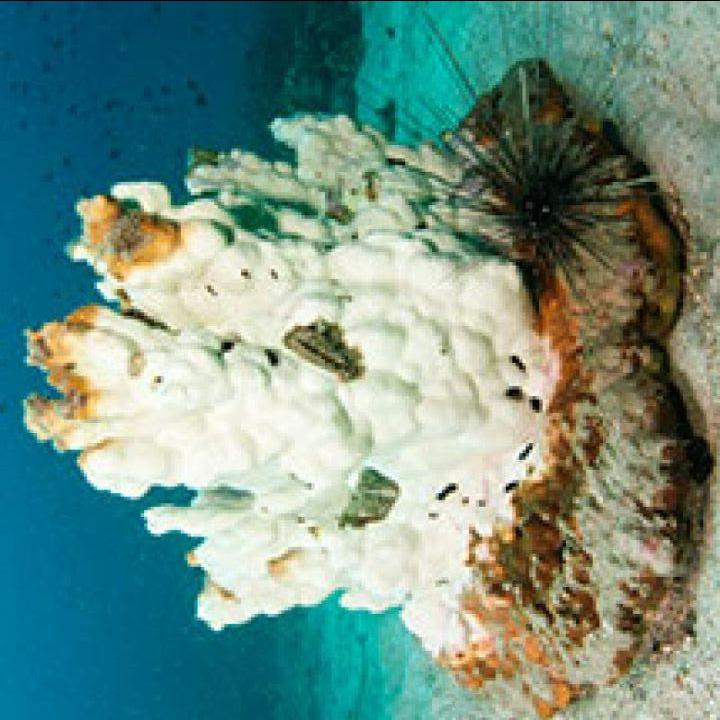Bleached disease: (27, 39, 570, 659)
